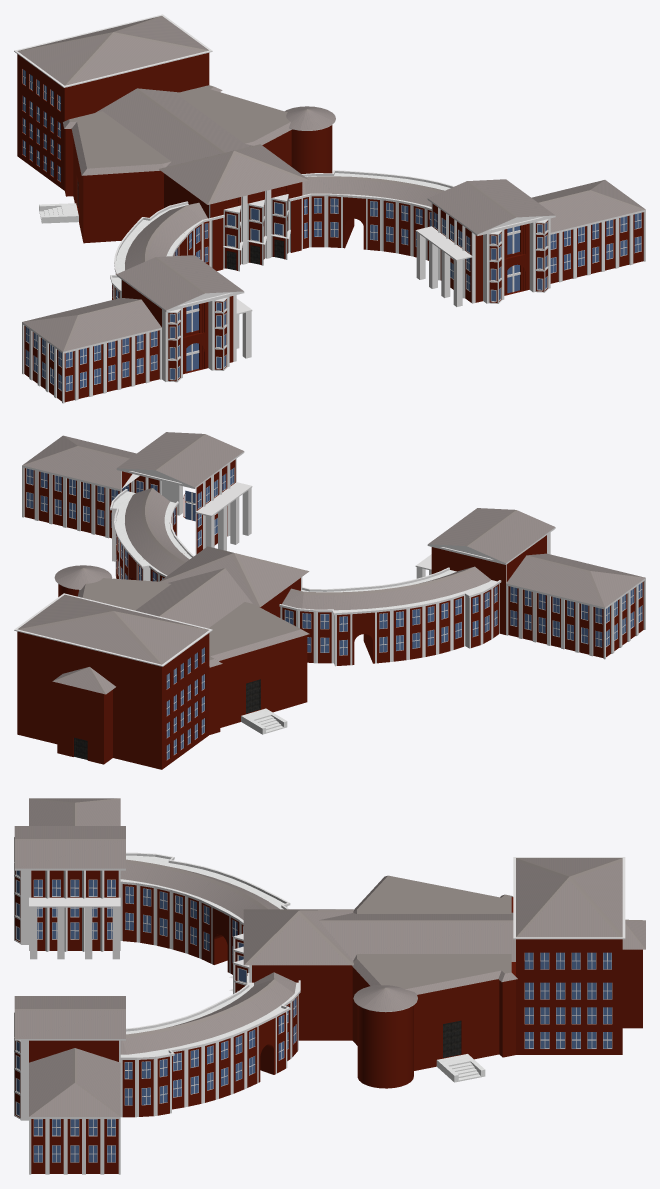
The model's file is PalacePratsi.glb.
3 views of the same model, one above another, from view 1: azimuth 30°, elevation 25°; view 2: azimuth 150°, elevation 25°; view 3: azimuth 270°, elevation 25° (orthographic). The views are drawn at different scales.
Parts seen in each view (by area): view 1: root; view 2: root; view 3: root.
Part boxes in pixels (box(x1,y1,x2,y2)): root: box(14, 14, 645, 403); root: box(14, 432, 645, 769); root: box(14, 798, 645, 1174).
Bounding box in the file's own units: 155 × 31.42 × 130.
Materials: 7 (3 with a texture image).
